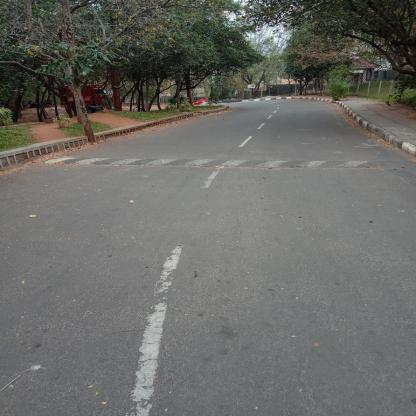speed-bumps: (26, 145, 415, 177)
